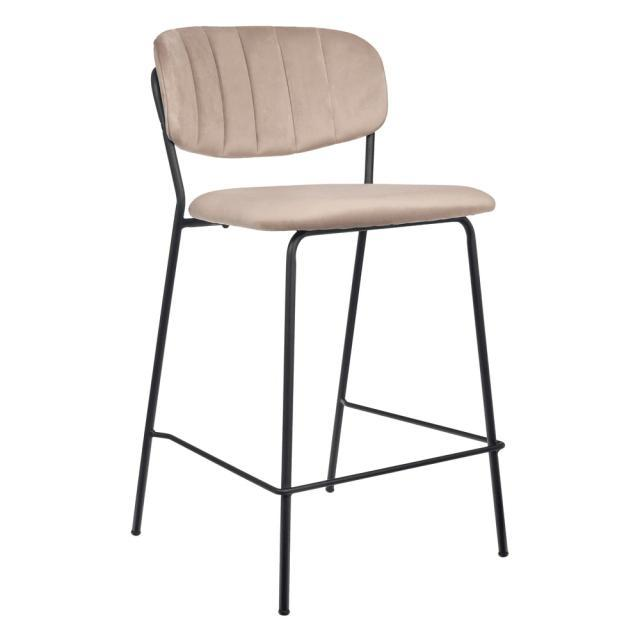chair: (123, 20, 512, 620), (130, 26, 496, 236)
